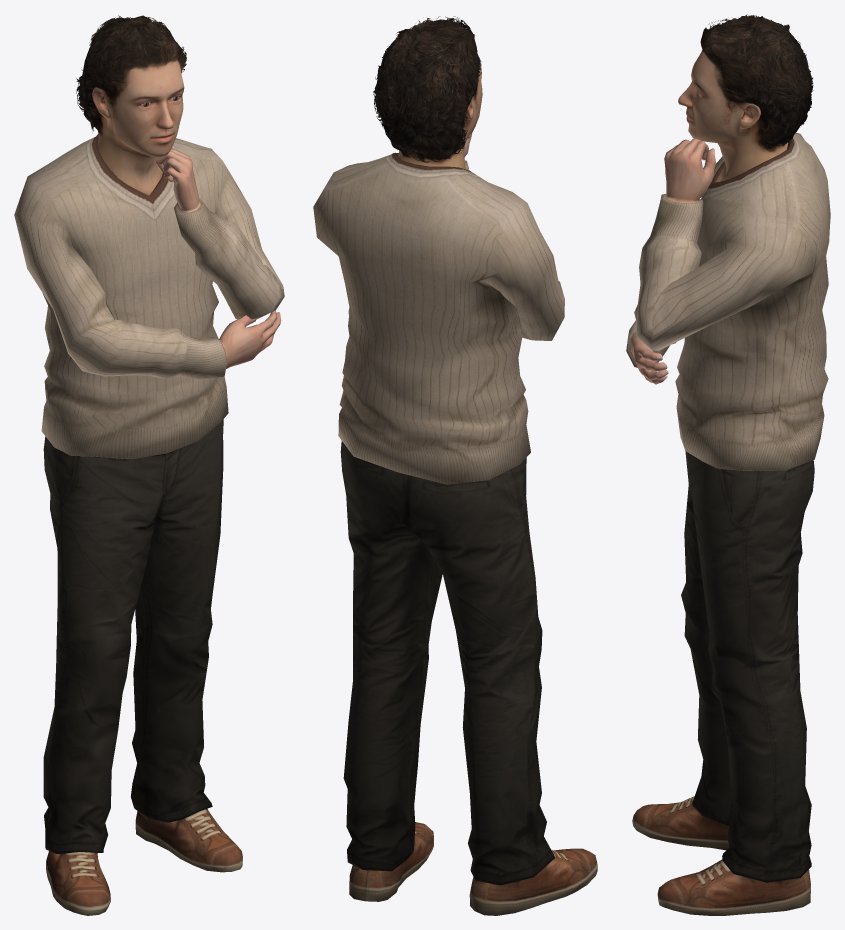
The picture shows the model from 3 angles, left to right: view 1: azimuth 30°, elevation 25°; view 2: azimuth 150°, elevation 25°; view 3: azimuth 270°, elevation 25°; orthographic projection. The views are drawn at different scales.
Parts seen in each view (by area): view 1: Rocketbox Male Adult 02; view 2: Rocketbox Male Adult 02; view 3: Rocketbox Male Adult 02.
Boxes of the visible parts, x1,y1,x2,y2 form: Rocketbox Male Adult 02: (14,15,284,915); Rocketbox Male Adult 02: (313,16,597,915); Rocketbox Male Adult 02: (626,14,830,915).
Bounding box in the file's own units: 0.4729 × 1.75 × 0.3771.
3 materials, 3 textured.
